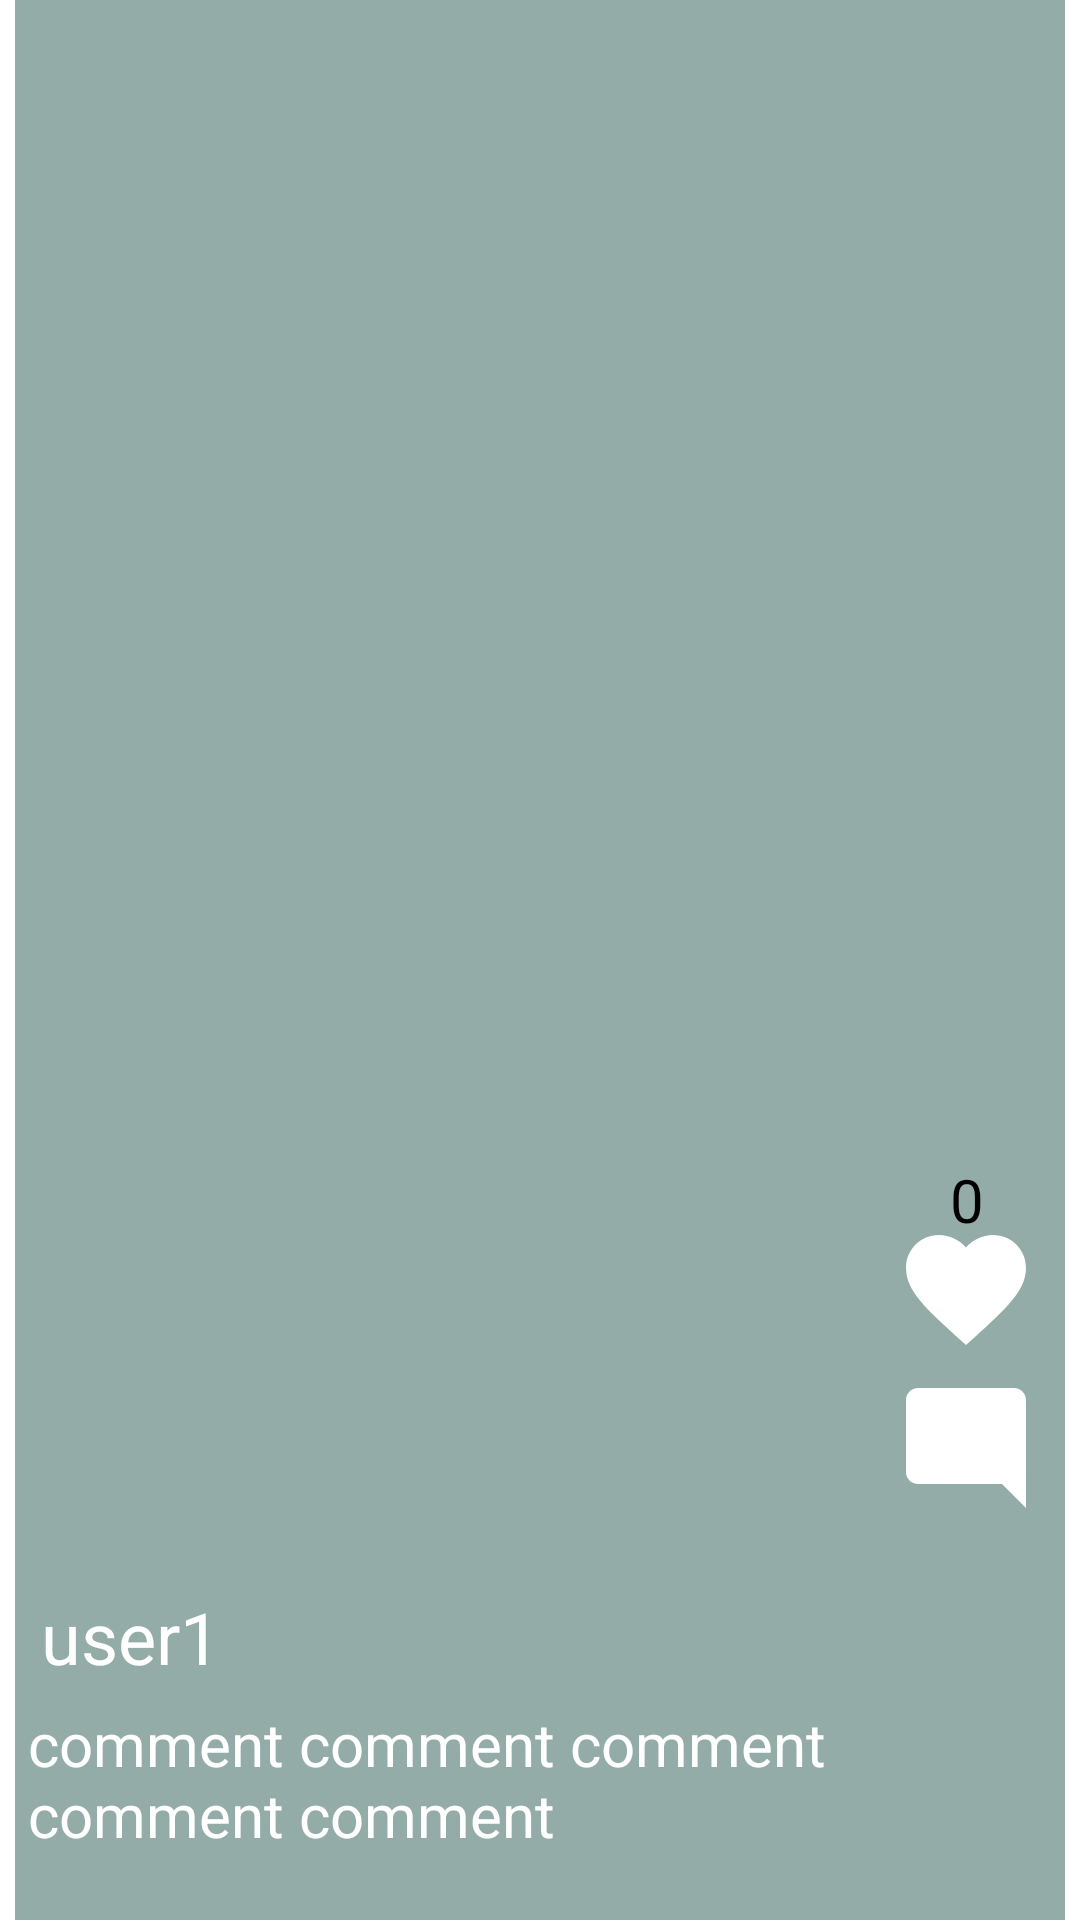

Where to tap for icons on this 1080 x 1920 app screen, as [x,y]:
like: [966,1290]
